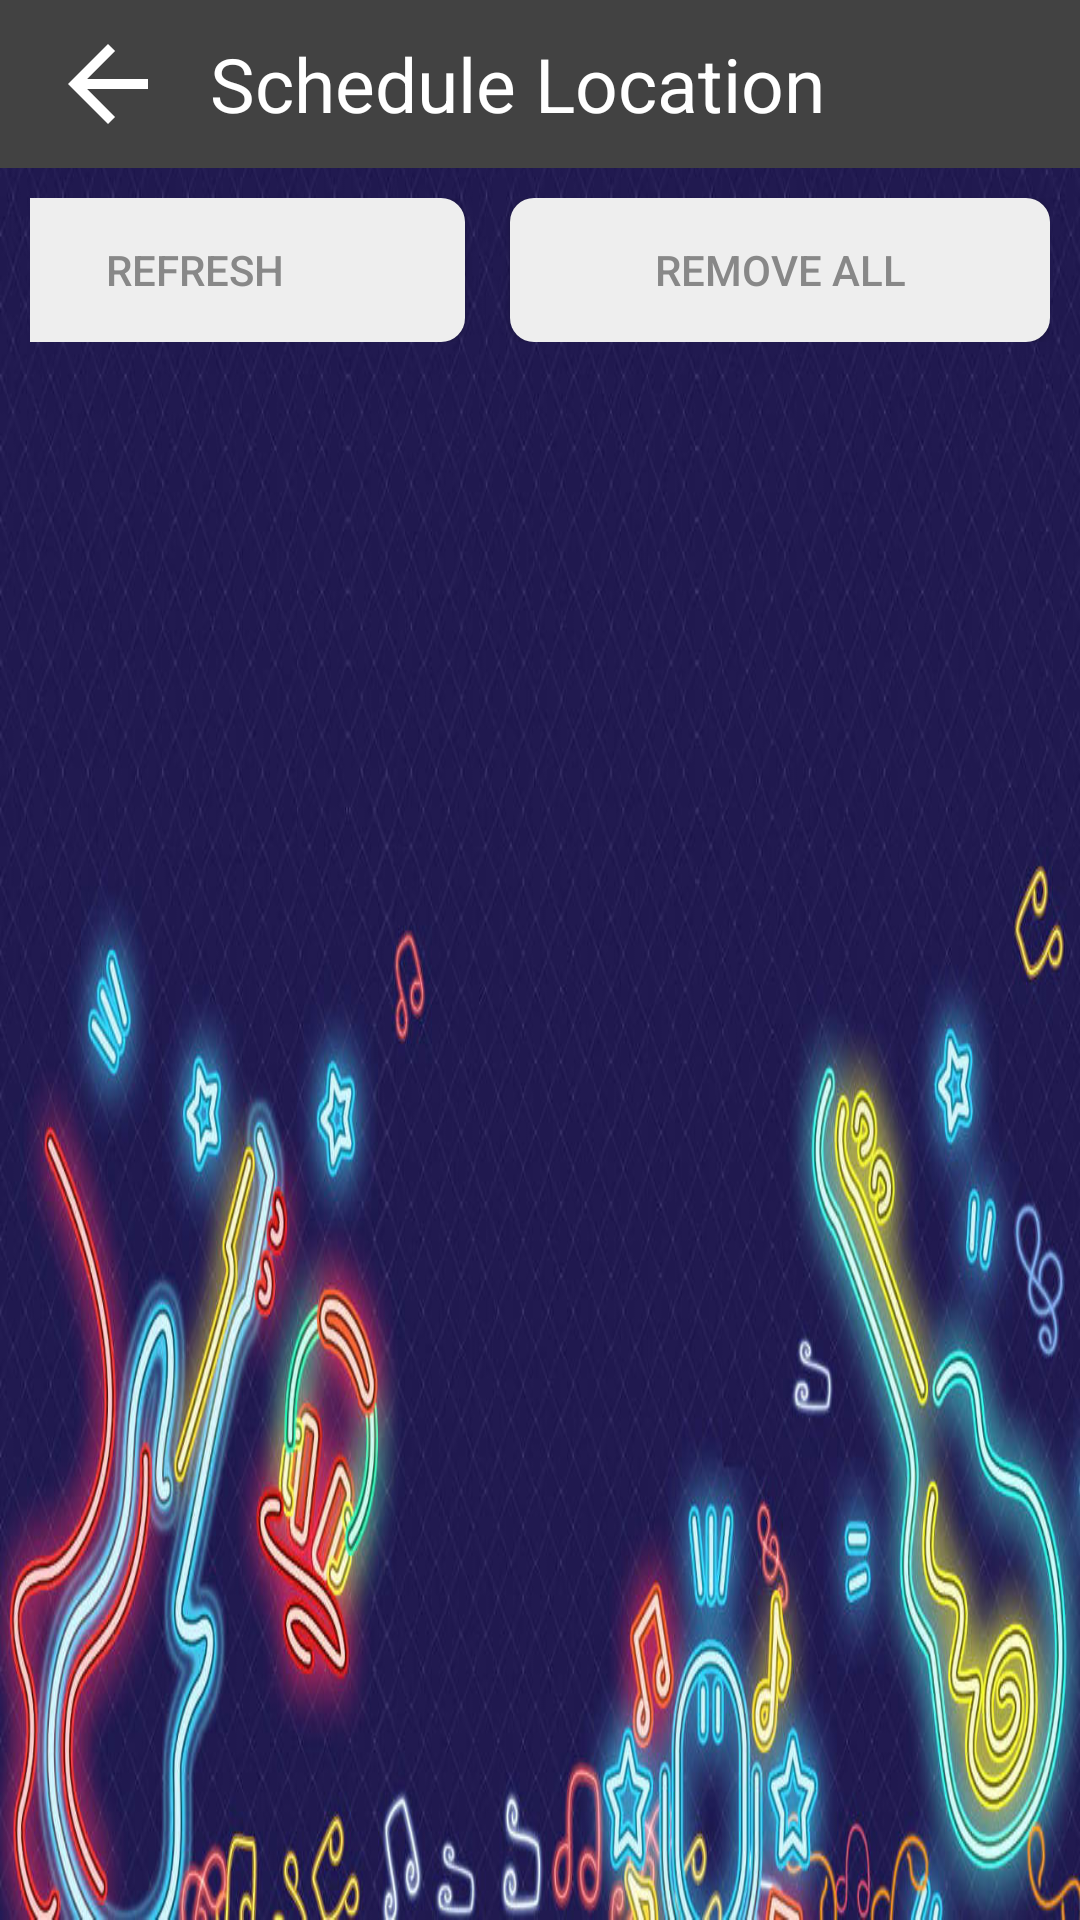

Where icons sit on this 1080 × 1920 app screen, as {"x1": x1, "y1": y1, "x2": x2, "y2": y2}:
arrow: {"x1": 68, "y1": 44, "x2": 148, "y2": 124}
